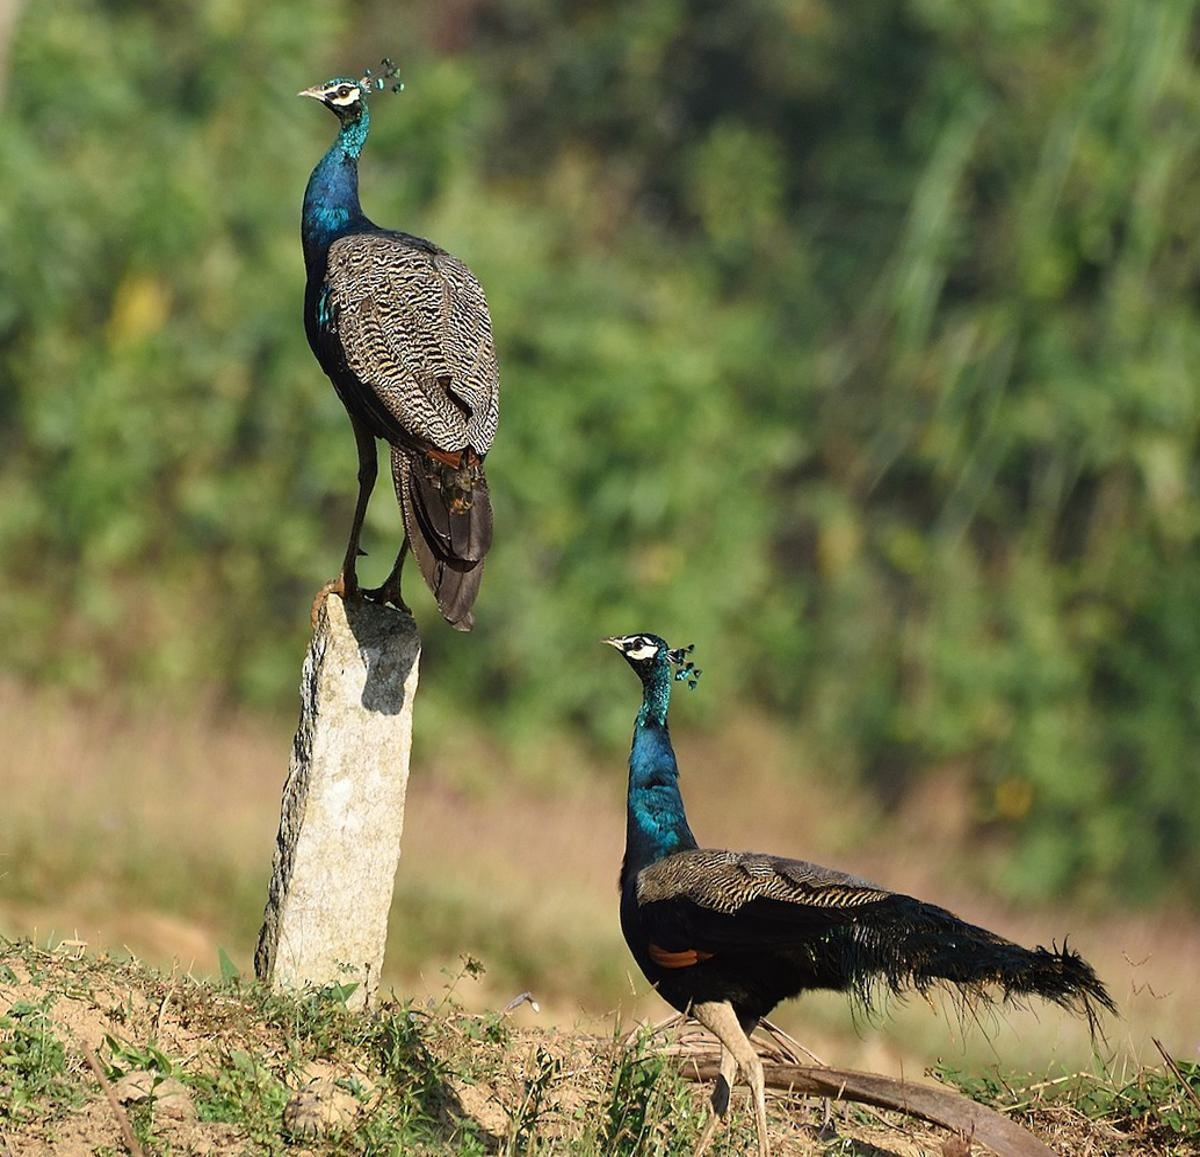peacock: (582, 571, 1014, 1078), (267, 71, 511, 604)
